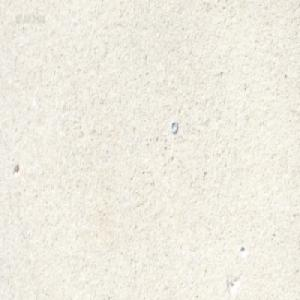Washer: (170, 119, 178, 133)
